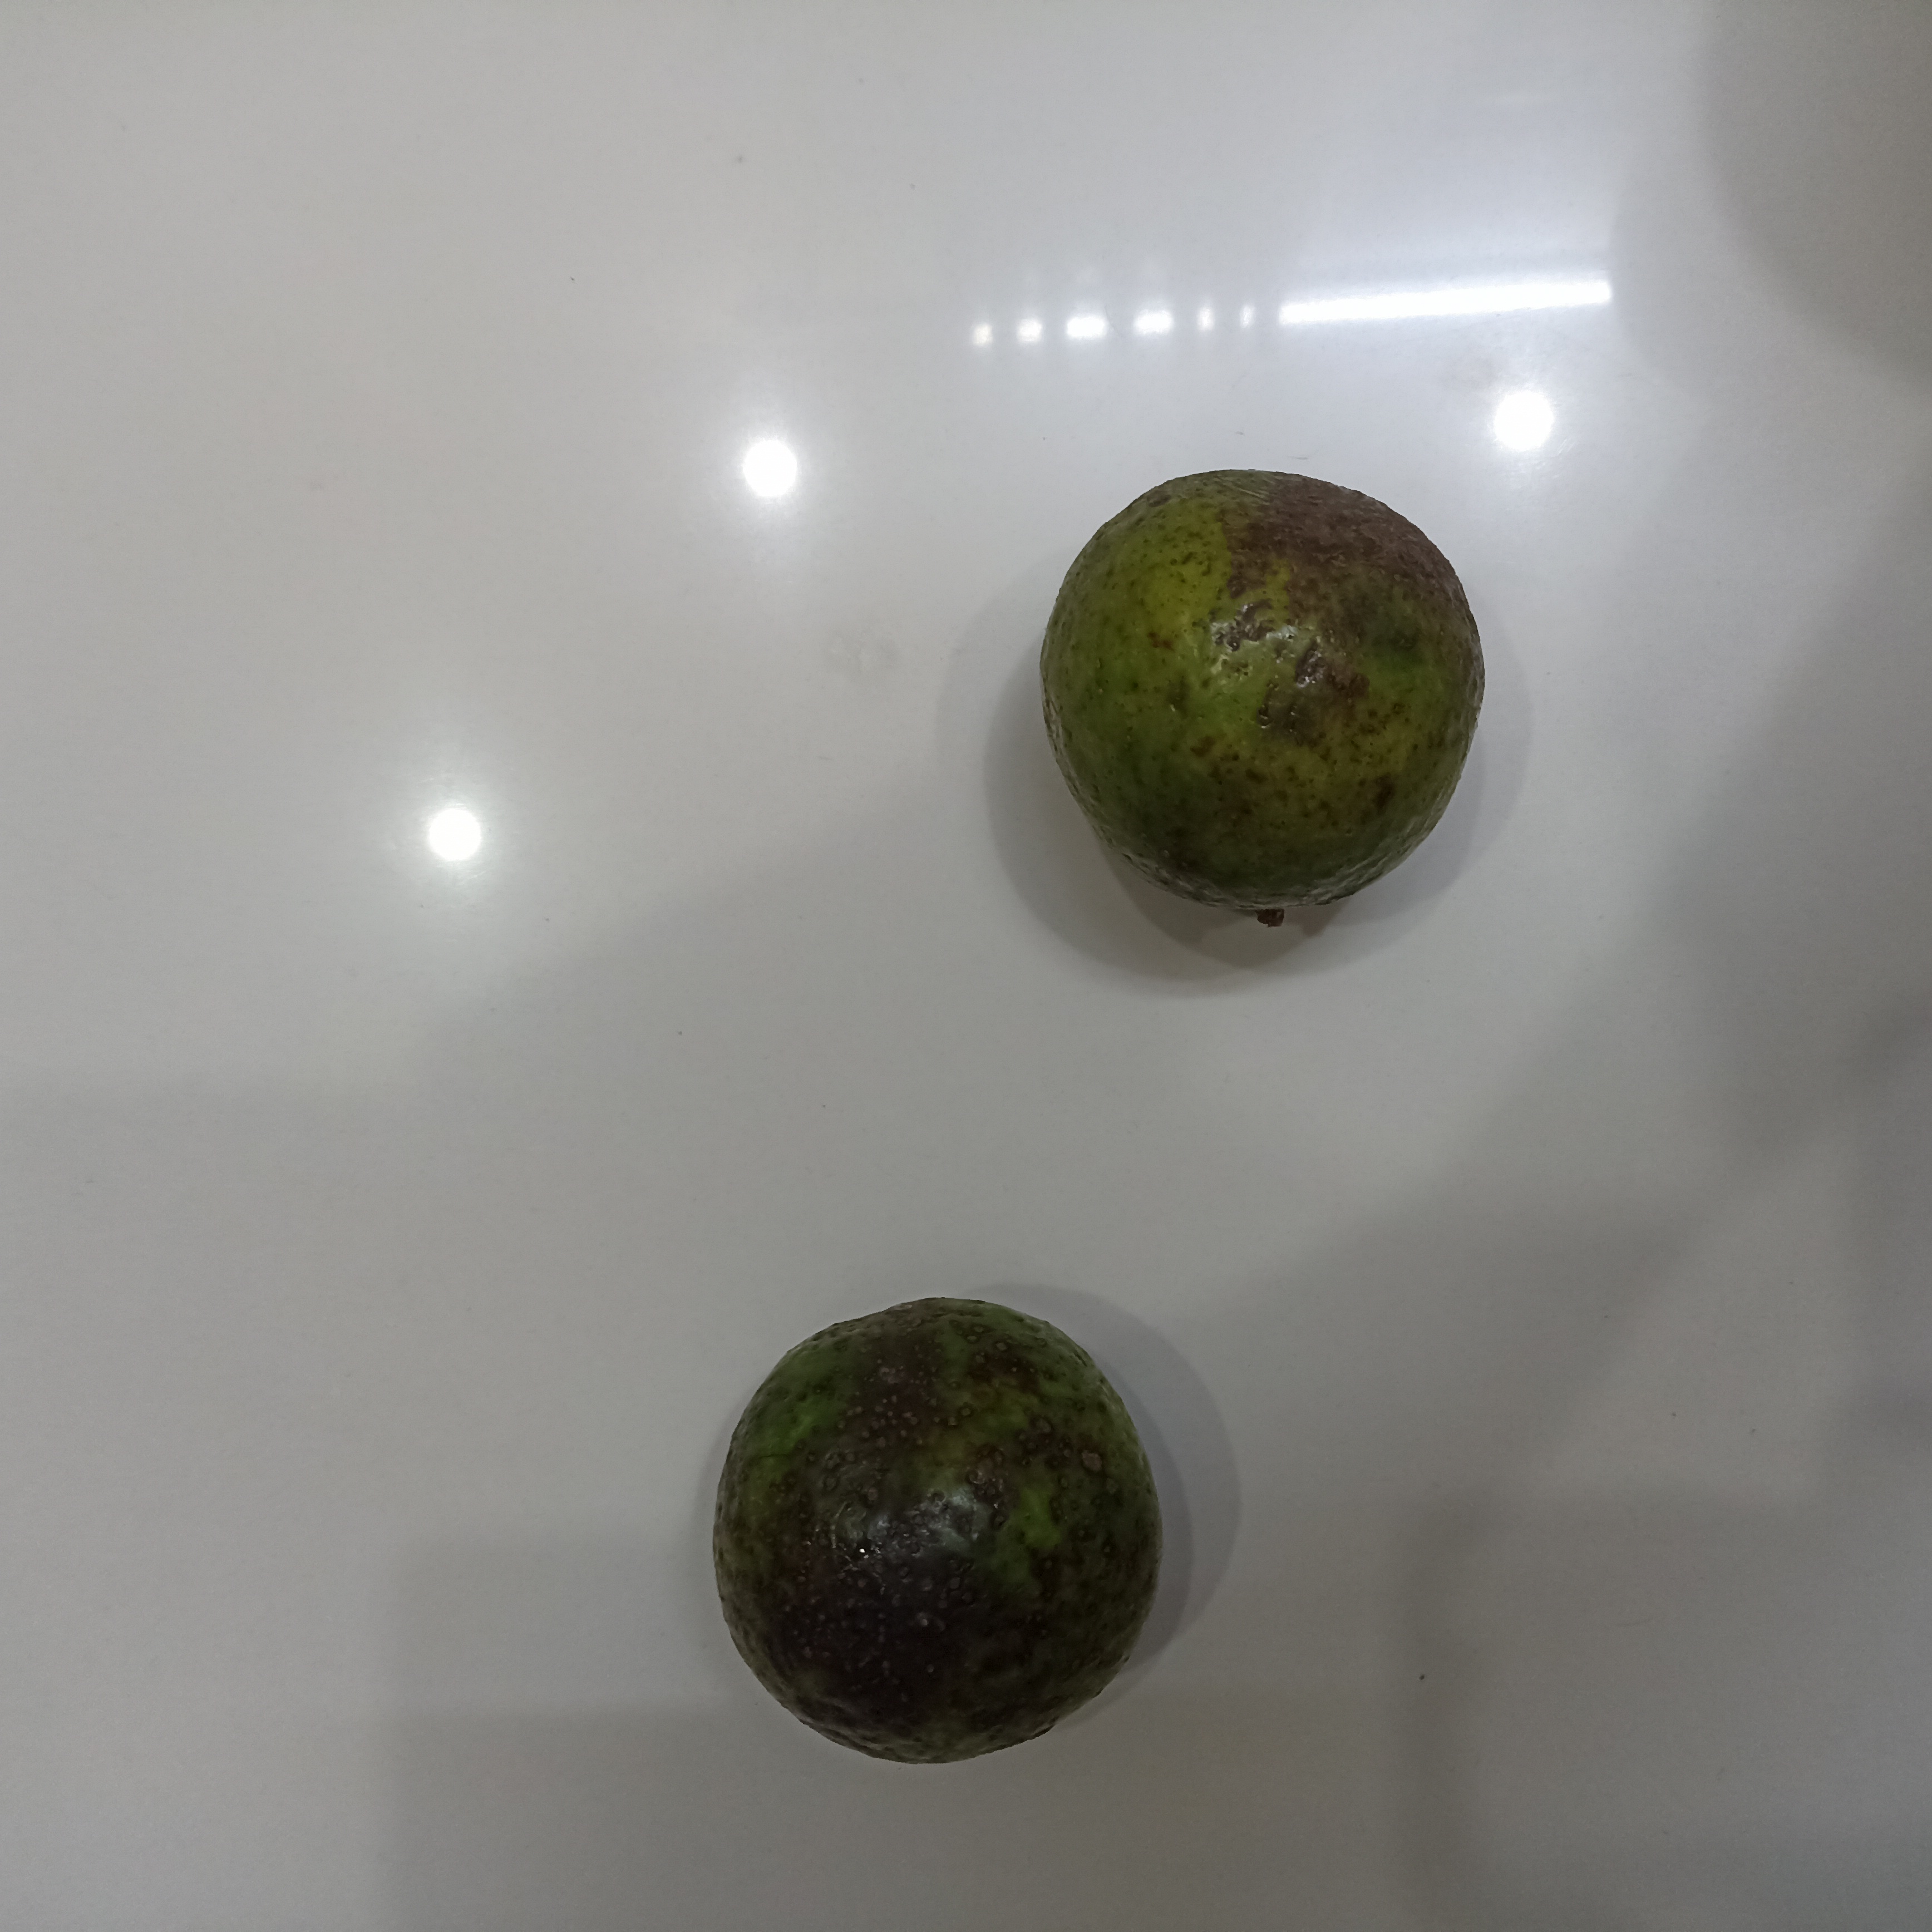Bo: (706, 1299, 1159, 1763), (1043, 471, 1491, 924)
